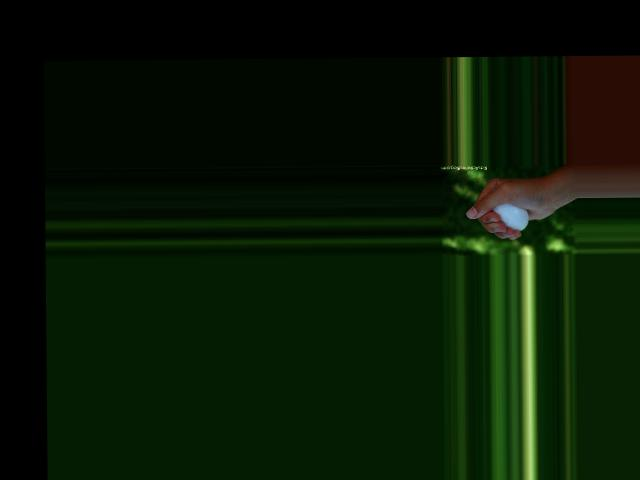egg: (491, 204, 528, 230)
